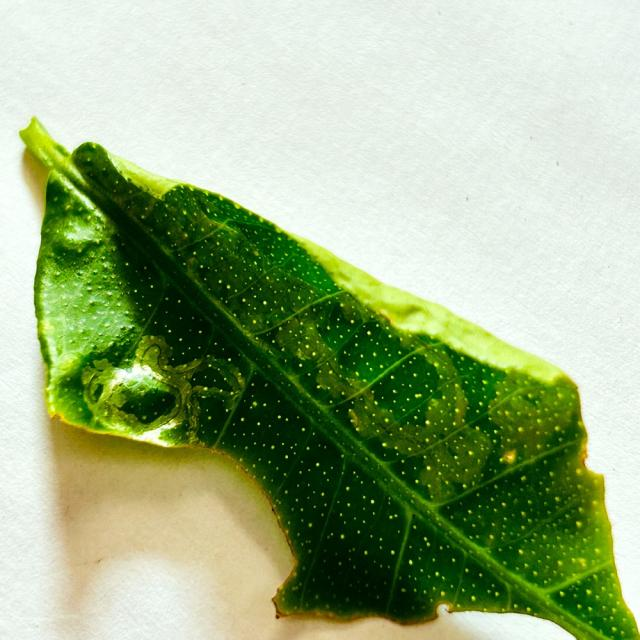Deficiency Leaf: (51, 420, 294, 614)
Lemon: (21, 120, 639, 639)
